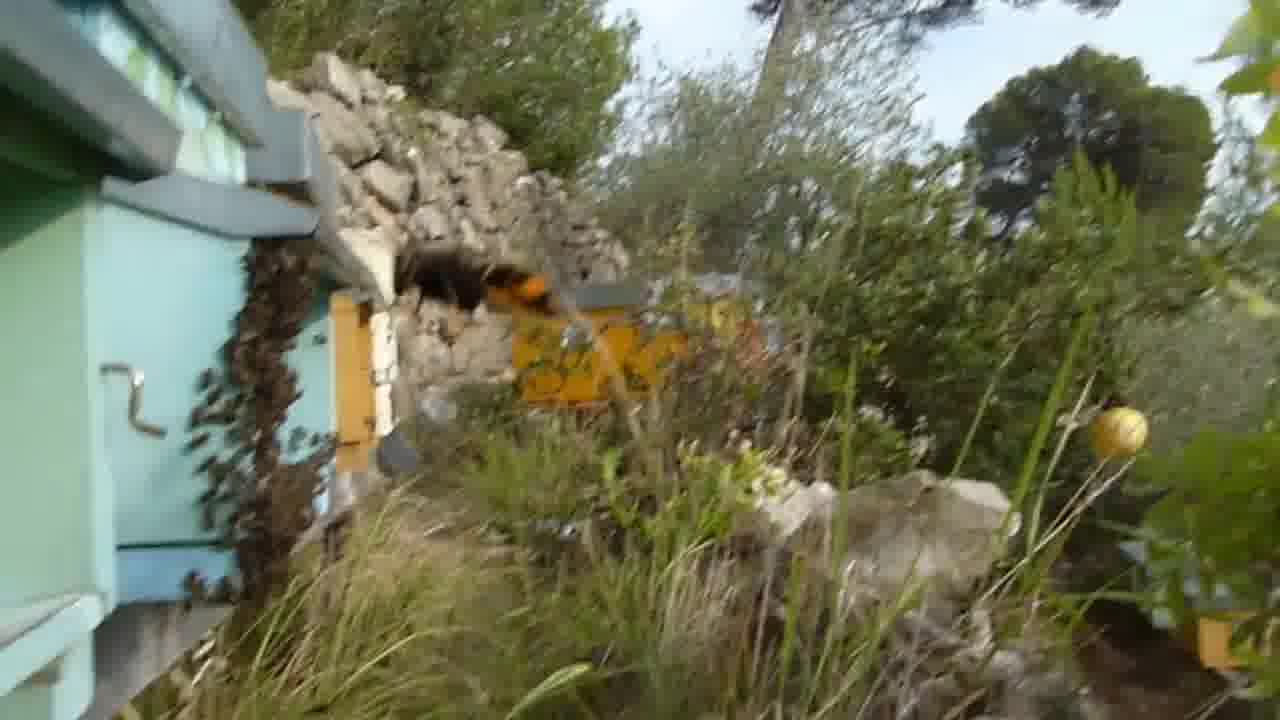bee: (201, 339, 315, 442), (189, 454, 306, 546), (236, 241, 318, 345)
hornet: (378, 234, 573, 332)
